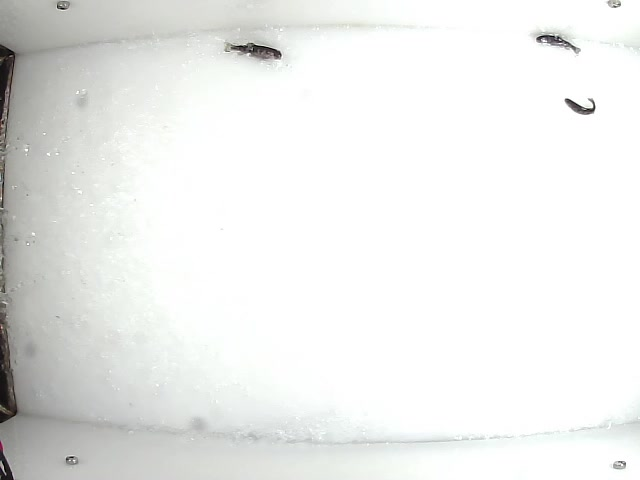fish: (221, 40, 284, 62), (534, 32, 581, 56), (561, 95, 597, 116)
